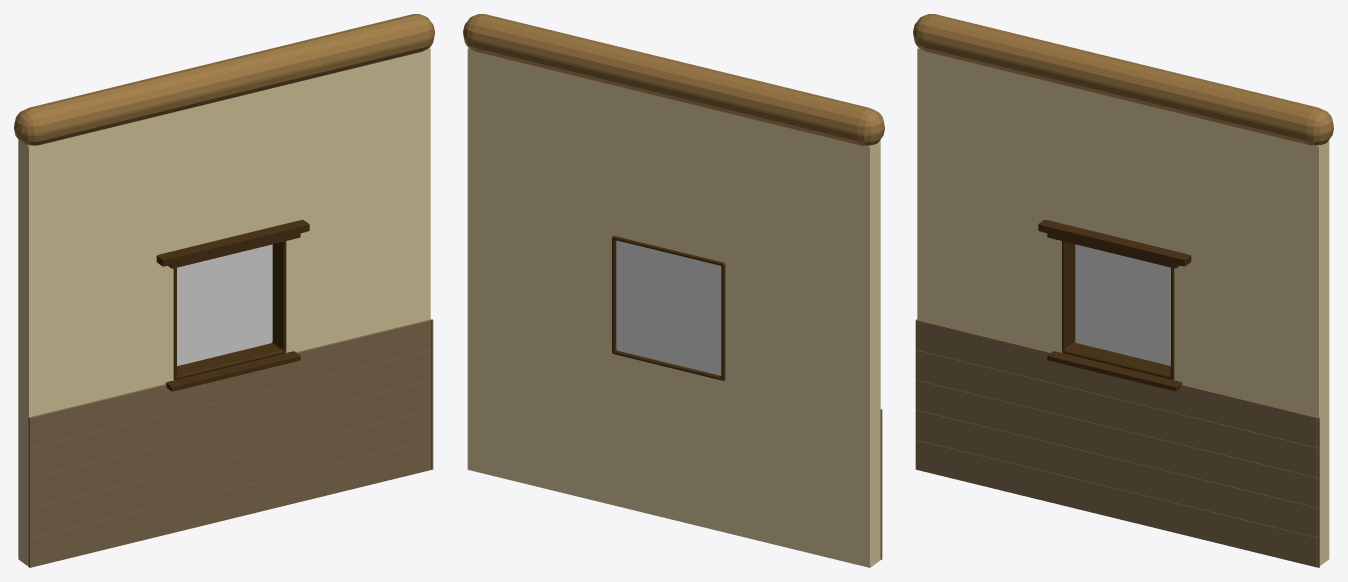
Rendered from SingleWallwithWindow02.fbx.
3 views of the same model, side by side, from view 1: azimuth 30°, elevation 25°; view 2: azimuth 150°, elevation 25°; view 3: azimuth 330°, elevation 25° (orthographic).
Parts seen in each view (by area): view 1: SingleWall-Window02; view 2: SingleWall-Window02; view 3: SingleWall-Window02.
Boxes of the visible parts, bbox=[...] form: SingleWall-Window02: bbox=[14, 14, 434, 567]; SingleWall-Window02: bbox=[463, 14, 884, 567]; SingleWall-Window02: bbox=[913, 14, 1333, 567].
Bounding box in the file's own units: 207 × 215 × 18.4.
